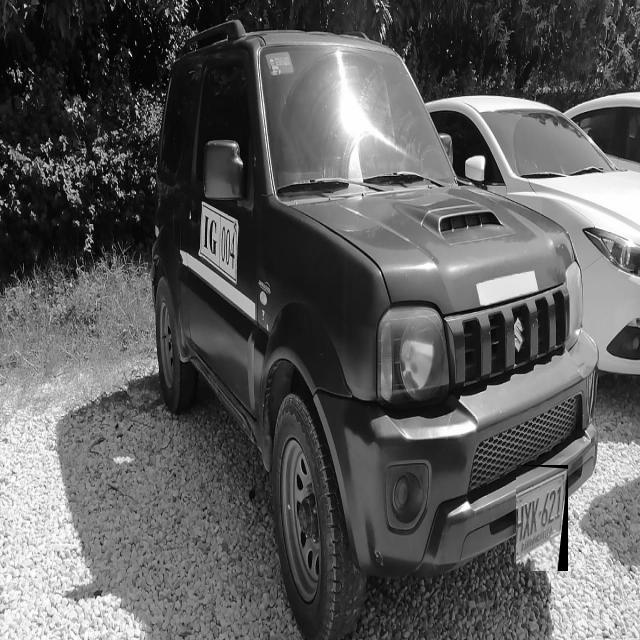plate: (516, 468, 568, 568)
